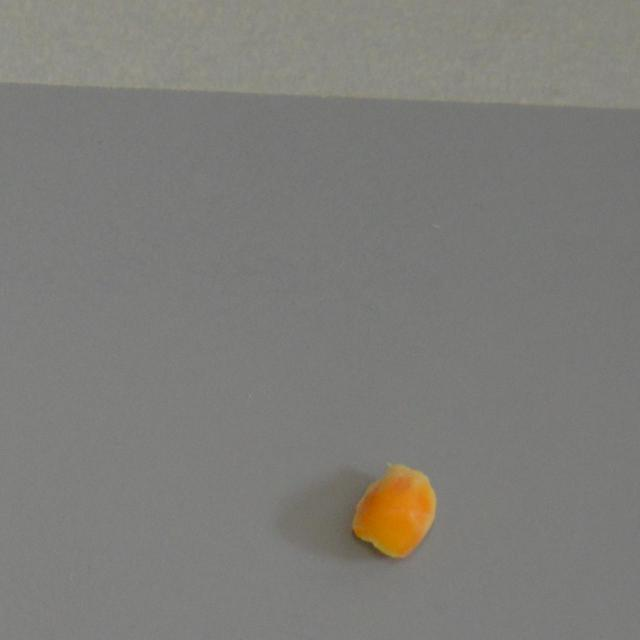pelicula: (348, 460, 436, 557)
